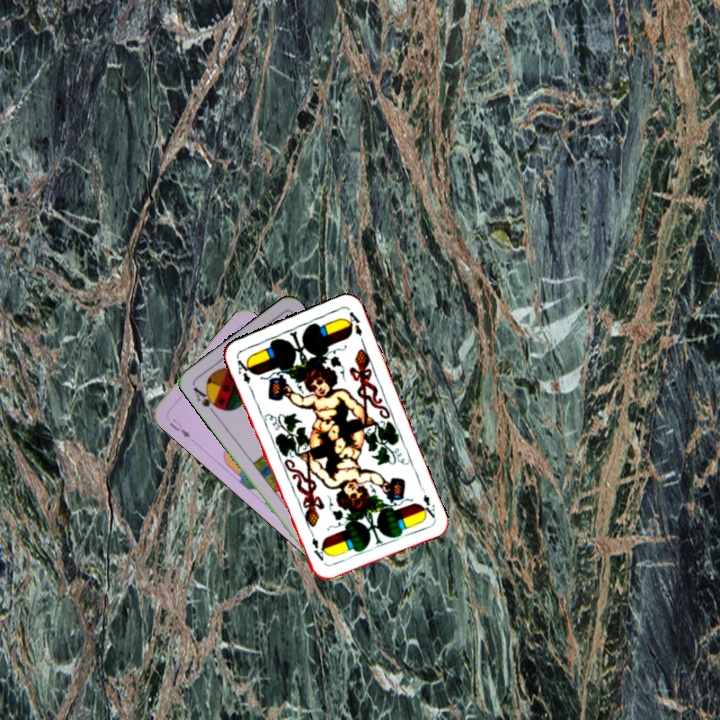EA: (416, 482, 438, 520), (232, 353, 255, 386)
EU: (165, 414, 193, 441)
SA: (189, 382, 223, 417)
